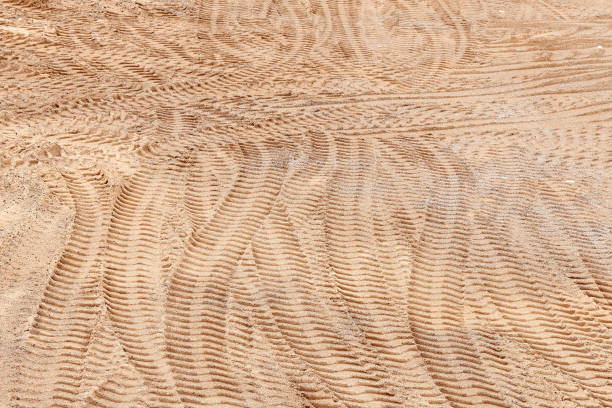vehicle_track: (0, 0, 611, 407), (20, 168, 109, 406)
